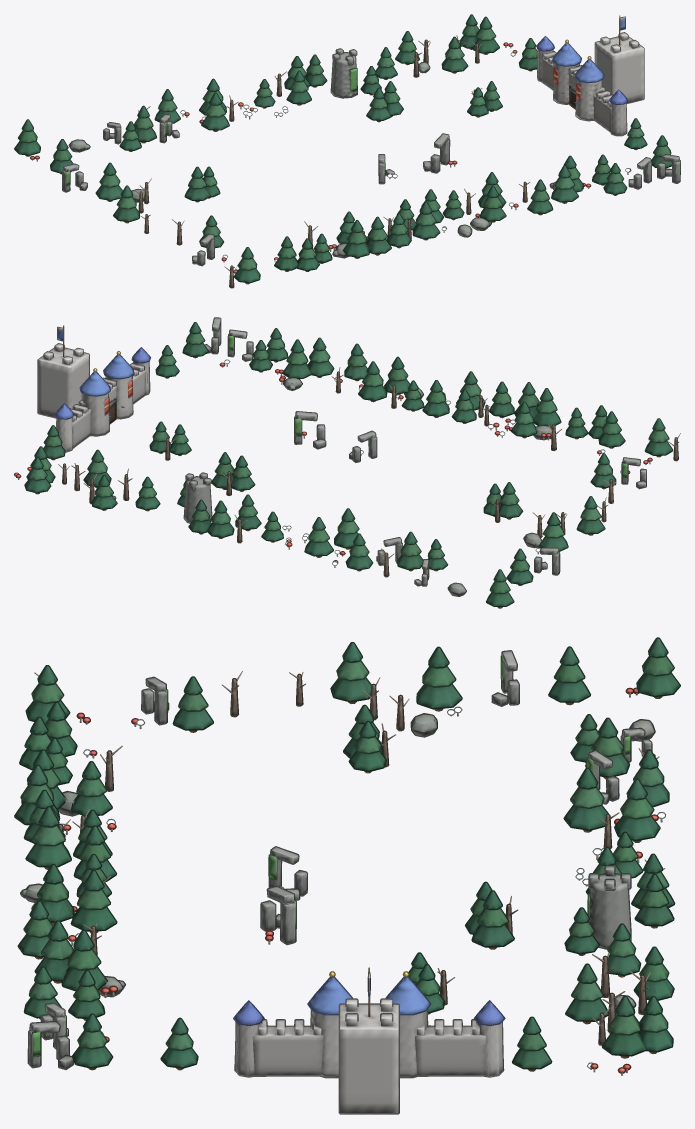
Rendered from darkwood.glb.
The picture shows the model from 3 angles, top to bottom: view 1: azimuth 30°, elevation 25°; view 2: azimuth 150°, elevation 25°; view 3: azimuth 270°, elevation 25°; orthographic projection. The views are drawn at different scales.
Parts seen in each view (by area): view 1: Baked_matte, Baked_matte_Outline; view 2: Baked_matte, Baked_matte_Outline; view 3: Baked_matte, Baked_matte_Outline.
Part boxes in pixels (<box>): Baked_matte: <box>15,15,680,287</box>; Baked_matte_Outline: <box>14,14,680,288</box>; Baked_matte: <box>14,318,680,607</box>; Baked_matte_Outline: <box>14,317,678,608</box>; Baked_matte: <box>15,638,679,1113</box>; Baked_matte_Outline: <box>14,637,680,1114</box>.
Size of the model in its own units: 41.12 by 6.32 by 27.15.
